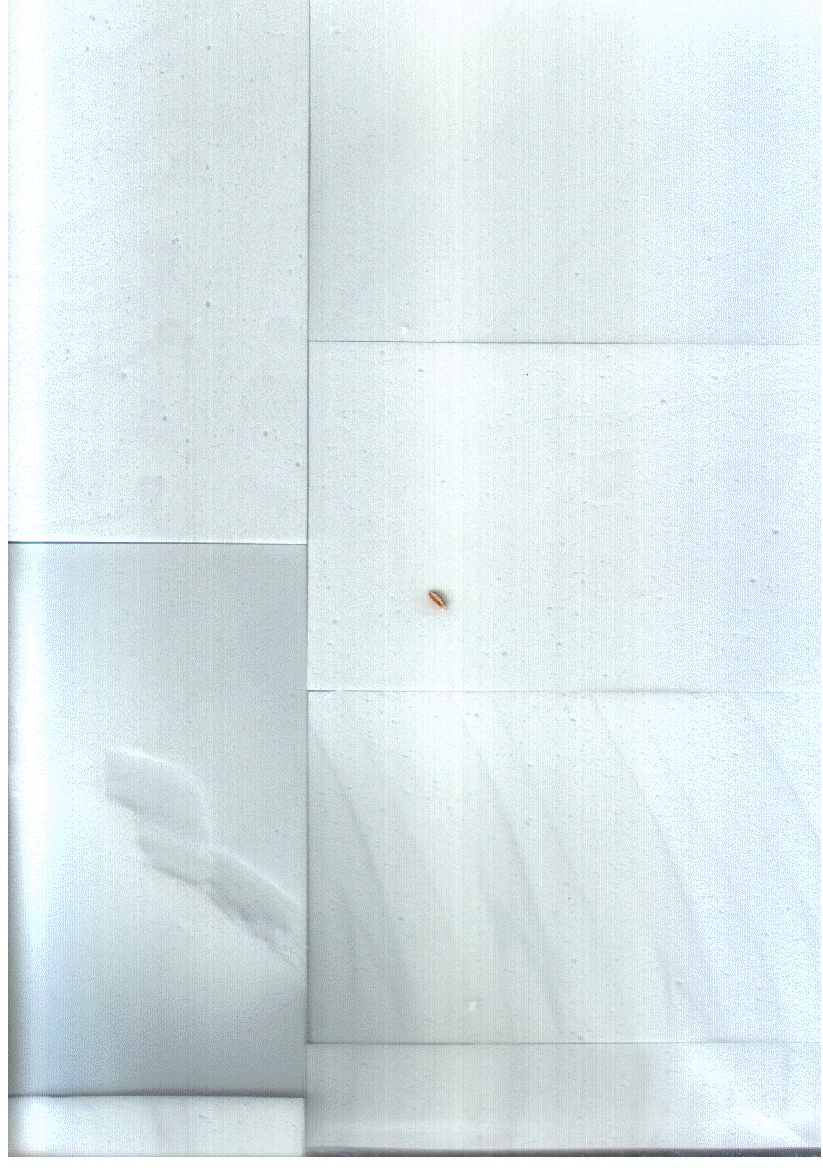grains: (420, 567, 459, 627)
